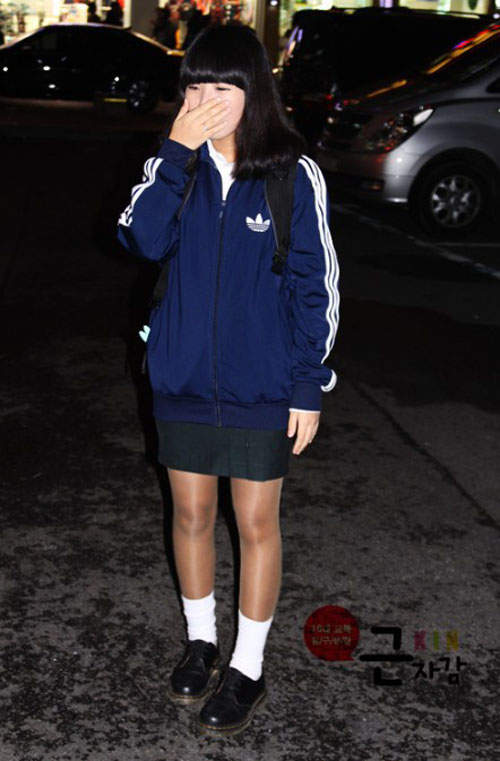face: (189, 55, 242, 140)
